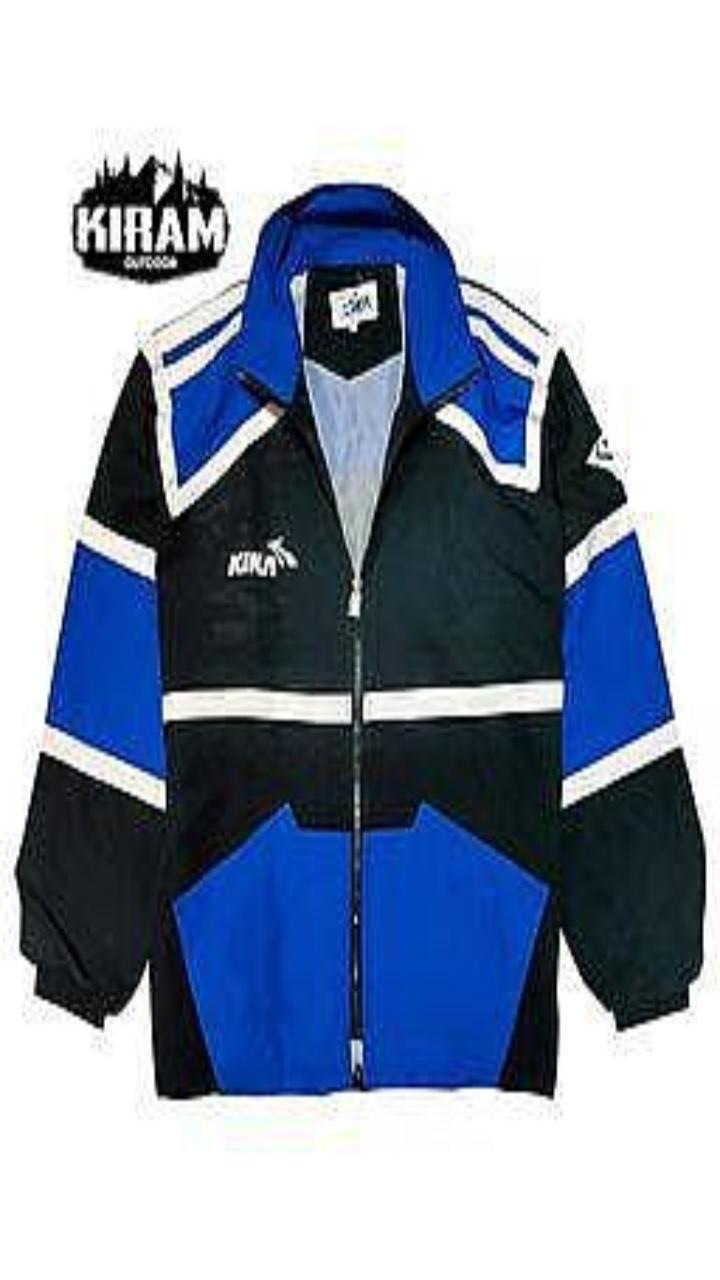Sports_Jacket: (18, 185, 703, 1095)
